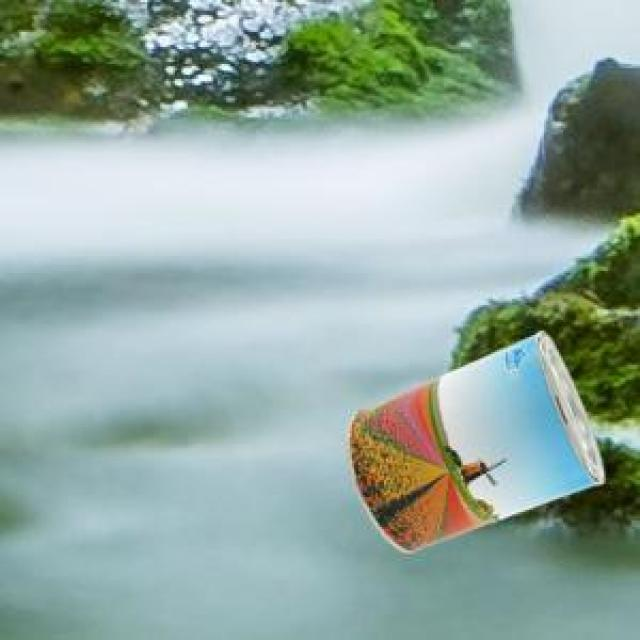logam: (345, 327, 601, 549)
